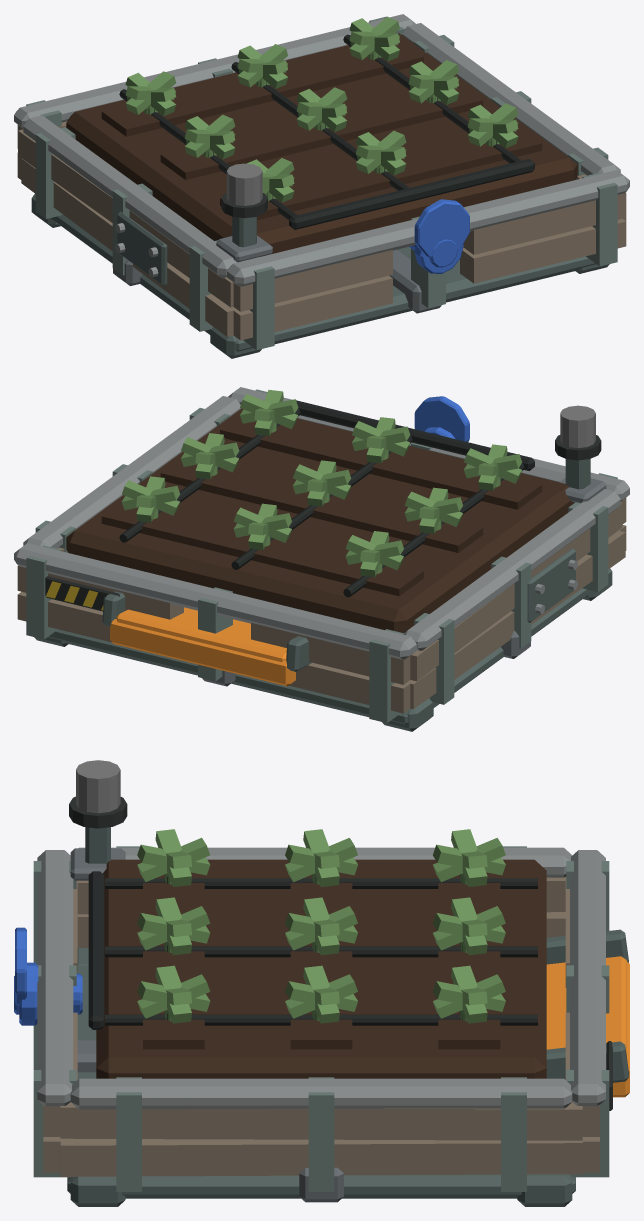
Rendered from planter.glb.
The picture shows the model from 3 angles, top to bottom: view 1: azimuth 30°, elevation 25°; view 2: azimuth 150°, elevation 25°; view 3: azimuth 270°, elevation 25°; orthographic projection. The views are drawn at different scales.
Parts seen in each view (by area): view 1: planter, Lamp; view 2: planter, Lamp; view 3: planter, Lamp.
Boxes of the visible parts, x1=… form: planter: x1=14, y1=14, x2=629, y2=358; Lamp: x1=226, y1=163, x2=262, y2=205; planter: x1=14, y1=387, x2=629, y2=731; Lamp: x1=560, y1=405, x2=595, y2=447; planter: x1=14, y1=796, x2=629, y2=1206; Lamp: x1=76, y1=760, x2=120, y2=813.
Bounding box in the file's own units: 1.75 × 0.71 × 1.79.
